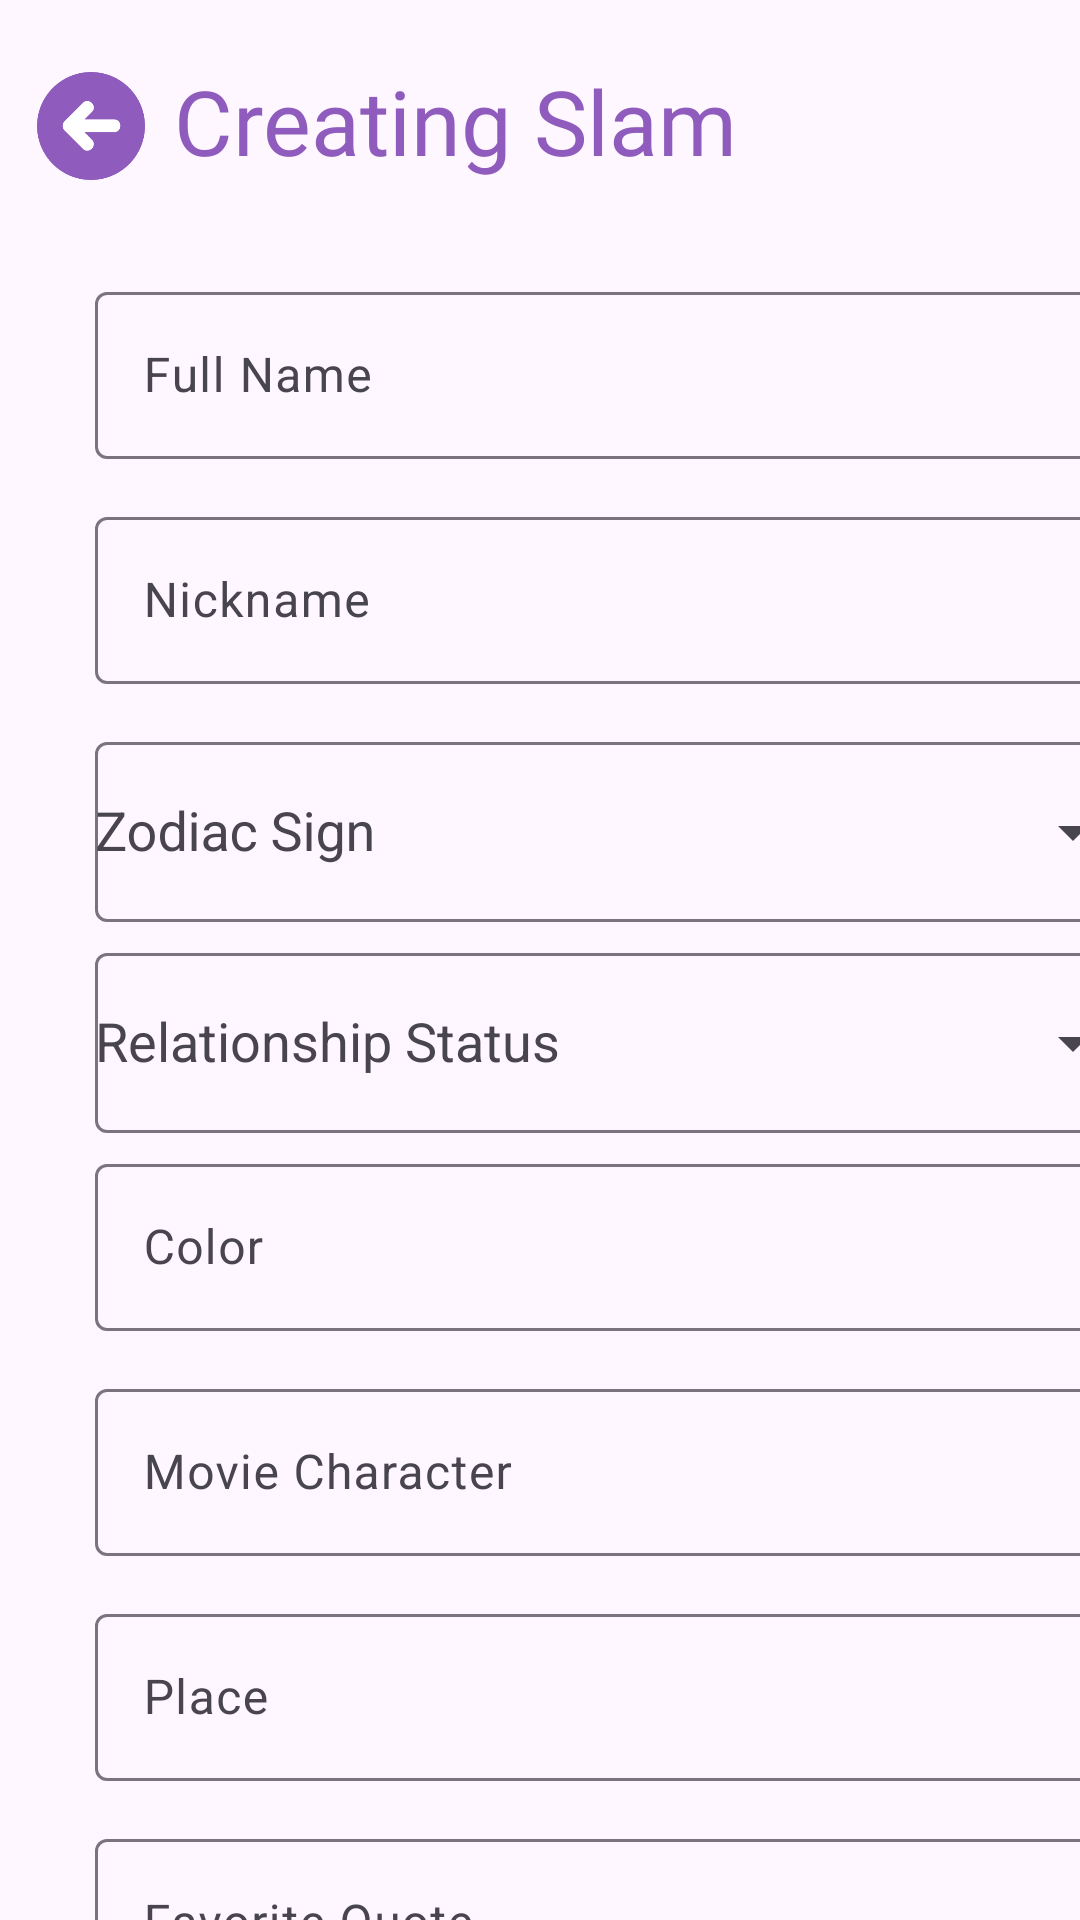

Icons on this 1080x1920 Android screen, each with its box as [x1=x1, y1=y1, x2=x2, y2=y2]:
back: [x1=37, y1=72, x2=145, y2=180]
